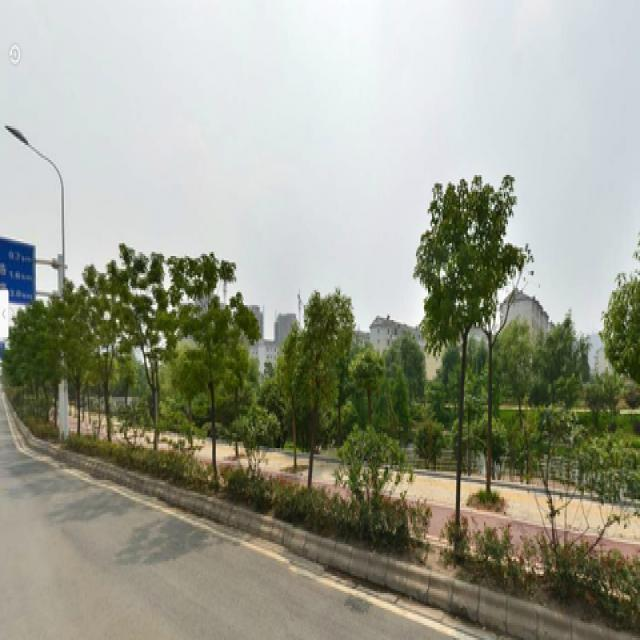cinn: (429, 192, 488, 525), (295, 280, 333, 497)
sali: (177, 254, 239, 471), (116, 247, 165, 446)
